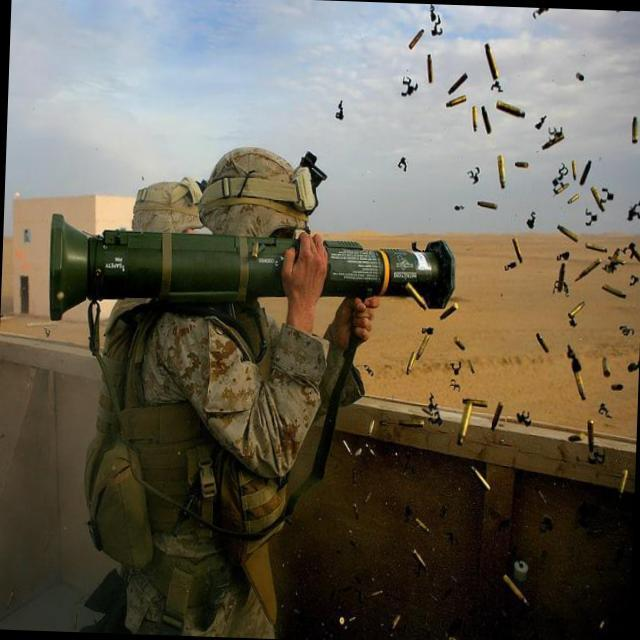rocket: (26, 212, 468, 332)
